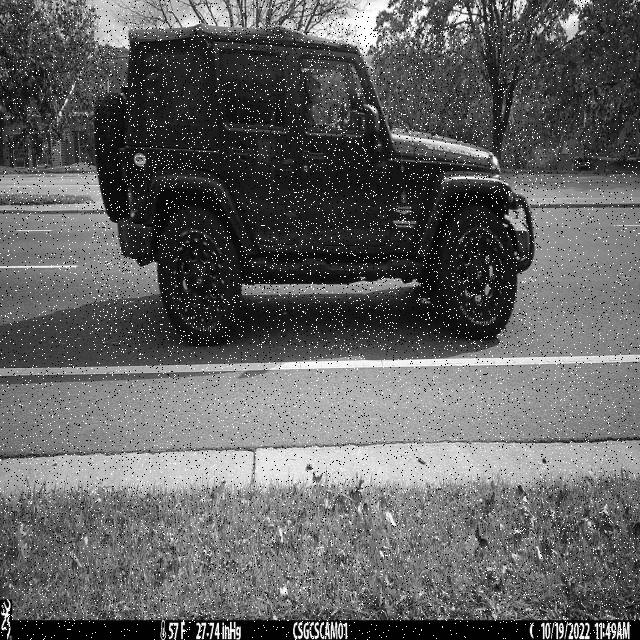SUV: (94, 27, 537, 348)
